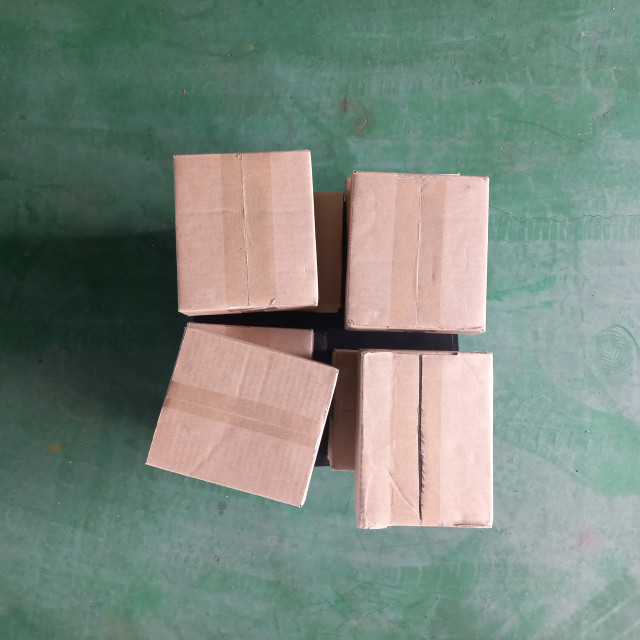box: (143, 322, 339, 511), (349, 346, 494, 533), (344, 168, 491, 337), (172, 148, 319, 317)
